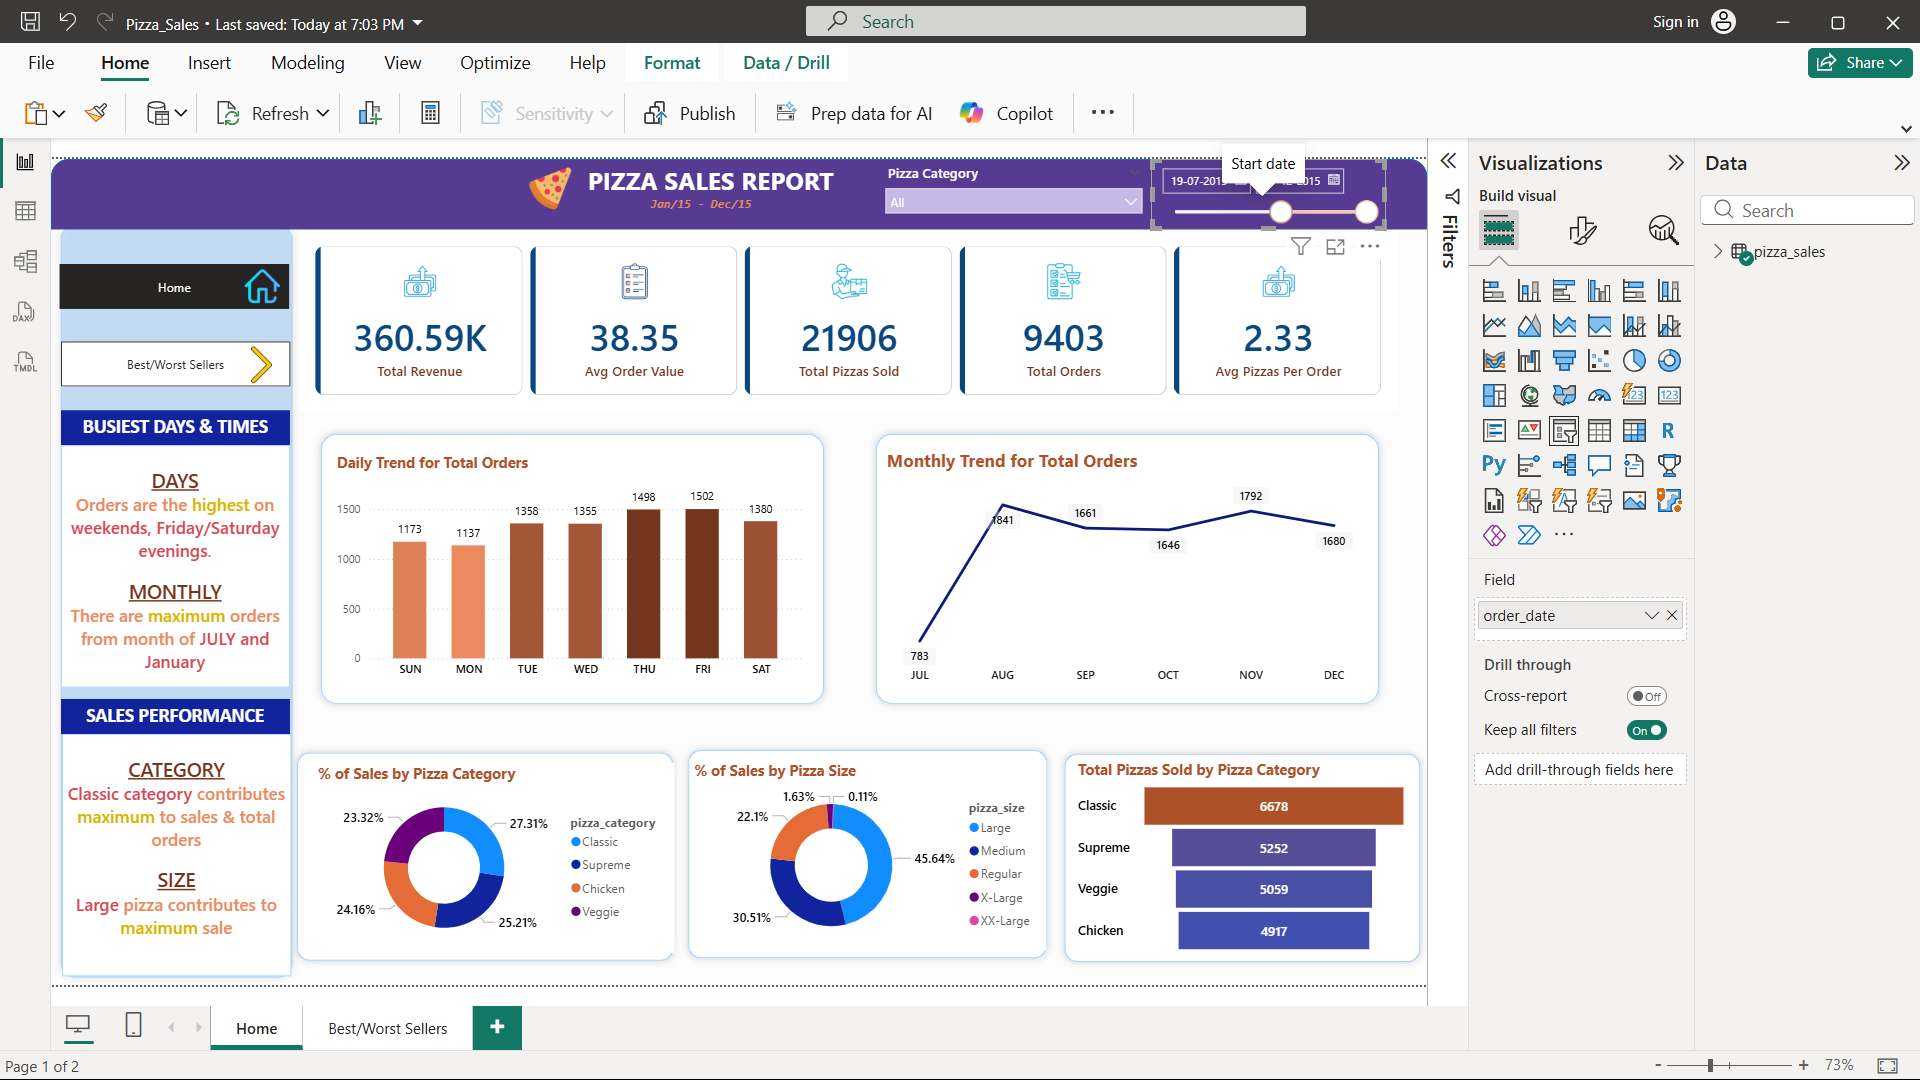

The dashboard page shown, as its layout file describes it:
{"tool":"powerbi","page":{"name":"Home","canvas":[1500,900],"ordinal":0},"visuals":[{"type":"shape","box":[3.2,64.3,268.5,836.2],"z":0},{"type":"textbox","box":[11.3,273.4,249.3,38.6],"z":1000},{"type":"cardVisual","fields":{"Data":["pizza_sales.Total Revenue","pizza_sales.Avg Order Value","pizza_sales.Total Pizzas Sold","pizza_sales.Total Orders","pizza_sales.Avg Pizzas Per Order"]},"box":[271.8,77.2,1196.4,197.8],"z":2000},{"type":"shape","box":[0,0,1500.3,77.2],"z":3000},{"type":"textbox","box":[580.5,0,289.5,45],"z":4000},{"type":"textbox","box":[648.1,33.8,152.8,30.6],"z":5000},{"type":"image","box":[490.5,8,107.7,48.2],"z":6000},{"type":"shape","box":[285.9,292,564.4,310.4],"z":7000},{"type":"columnChart","title":"Daily Trend for Total Orders","fields":{"Category":["pizza_sales.Order Day"],"Y":["pizza_sales.Total Orders"]},"box":[306.8,319.4,517.8,255.7],"z":8000},{"type":"shape","box":[890.5,292,564.4,310.4],"z":9000},{"type":"areaChart","title":"Monthly Trend for Total Orders","fields":{"Y":["pizza_sales.Total Orders"],"Category":["pizza_sales.Order Month"]},"box":[906.6,316.1,533.9,265.3],"z":10000},{"type":"shape","box":[260.5,638.4,426.1,242.8],"z":11000},{"type":"shape","box":[686.6,636.8,406.8,242.8],"z":12000},{"type":"shape","box":[1096.4,640,403.6,242.8],"z":13000},{"type":"donutChart","title":"% of Sales by Pizza Category","fields":{"Category":["pizza_sales.pizza_category"],"Y":["pizza_sales.Total Revenue"]},"box":[286.2,657.7,394,207.4],"z":14000},{"type":"donutChart","title":"% of Sales by Pizza Size","fields":{"Y":["pizza_sales.Total Revenue"],"Category":["pizza_sales.pizza_size"]},"box":[696.3,656.1,389.2,207.4],"z":15000},{"type":"funnel","title":"Total Pizzas Sold by Pizza Category","fields":{"Category":["pizza_sales.pizza_category"],"Y":["pizza_sales.Total Pizzas Sold"]},"box":[1114,654.5,369.9,217.1],"z":16000},{"type":"textbox","box":[11.3,312,249.3,263.7],"z":17000},{"type":"textbox","box":[11.3,588.6,249.3,38.6],"z":18000},{"type":"textbox","box":[12.9,627.1,249.3,263.7],"z":19000},{"type":"slicer","fields":{"Values":["pizza_sales.pizza_category"]},"box":[898.9,0,300.7,64.3],"z":20000},{"type":"slicer","fields":{"Values":["pizza_sales.order_date"]},"box":[1199.6,0,255.7,77.2],"z":21000},{"type":"pageNavigator","box":[9.6,114.2,250.9,49.9],"z":21001},{"type":"pageNavigator","box":[11.3,199.4,250.9,49.9],"z":21002},{"type":"image","box":[180.1,204.2,99.7,40.2],"z":21004},{"type":"image","box":[210.7,112.6,38.6,51.5],"z":21005}]}

Visuals, with their boxes on the page's 1500x900 design canvas (x1, y1, x2, y2). These are canvas units, not pixel positions in the 1920x1080 screenshot, which may show the page scaled, cropped or inside an application window:
shape: [left=3, top=64, right=272, bottom=900]
textbox: [left=11, top=273, right=261, bottom=312]
cardVisual - pizza_sales.Total Revenue x pizza_sales.Avg Order Value: [left=272, top=77, right=1468, bottom=275]
shape: [left=0, top=0, right=1500, bottom=77]
textbox: [left=580, top=0, right=870, bottom=45]
textbox: [left=648, top=34, right=801, bottom=64]
image: [left=490, top=8, right=598, bottom=56]
shape: [left=286, top=292, right=850, bottom=602]
"Daily Trend for Total Orders" columnChart: [left=307, top=319, right=825, bottom=575]
shape: [left=890, top=292, right=1455, bottom=602]
"Monthly Trend for Total Orders" areaChart: [left=907, top=316, right=1440, bottom=581]
shape: [left=260, top=638, right=687, bottom=881]
shape: [left=687, top=637, right=1093, bottom=880]
shape: [left=1096, top=640, right=1500, bottom=883]
"% of Sales by Pizza Category" donutChart: [left=286, top=658, right=680, bottom=865]
"% of Sales by Pizza Size" donutChart: [left=696, top=656, right=1086, bottom=864]
"Total Pizzas Sold by Pizza Category" funnel: [left=1114, top=654, right=1484, bottom=872]
textbox: [left=11, top=312, right=261, bottom=576]
textbox: [left=11, top=589, right=261, bottom=627]
textbox: [left=13, top=627, right=262, bottom=891]
slicer - pizza_sales.pizza_category: [left=899, top=0, right=1200, bottom=64]
slicer - pizza_sales.order_date: [left=1200, top=0, right=1455, bottom=77]
pageNavigator: [left=10, top=114, right=260, bottom=164]
pageNavigator: [left=11, top=199, right=262, bottom=249]
image: [left=180, top=204, right=280, bottom=244]
image: [left=211, top=113, right=249, bottom=164]
